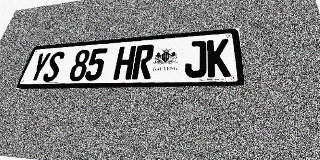5: (84, 48, 108, 81)
8: (67, 49, 92, 81)
H: (113, 46, 136, 80)
J: (184, 40, 206, 78)
K: (207, 39, 231, 77)
R: (131, 44, 155, 79)
S: (41, 51, 66, 82)
Y: (27, 52, 52, 82)
